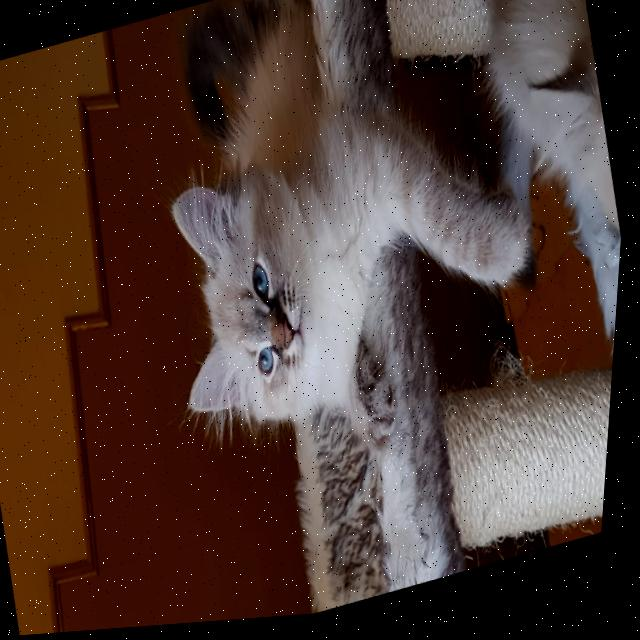Neva Masquerade: (98, 0, 589, 515)
